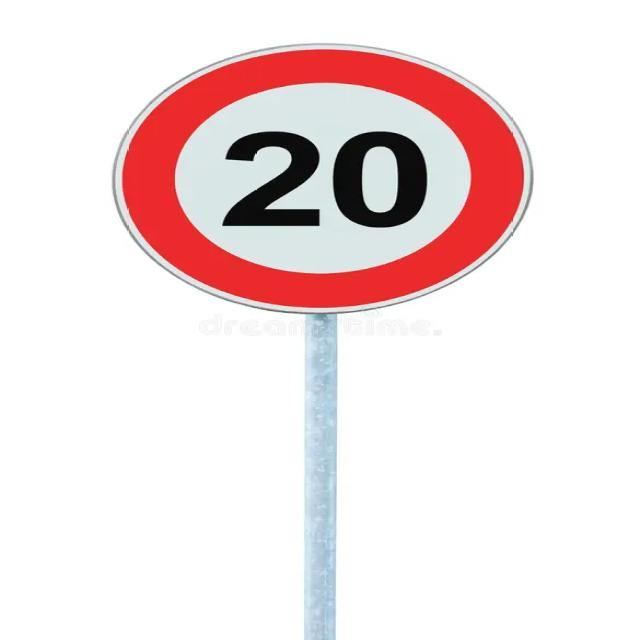speed_20: (111, 38, 539, 332)
